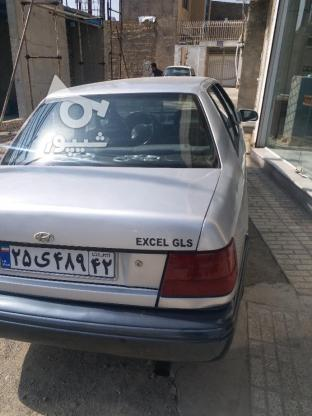car: (1, 243, 119, 279)
